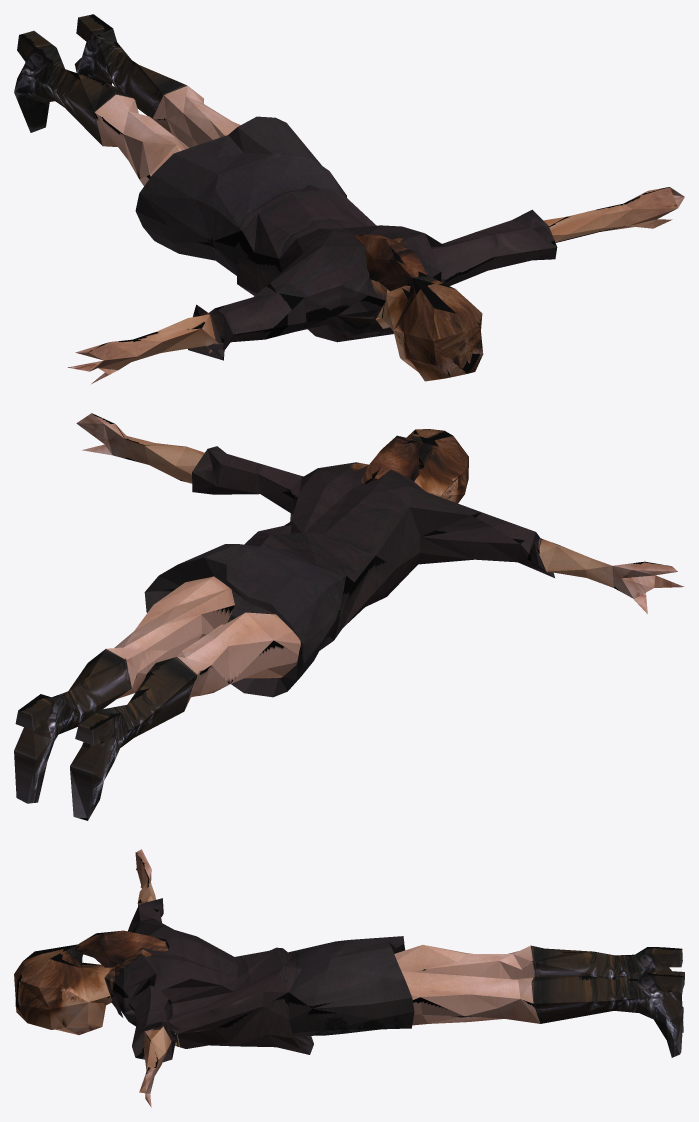
File: ponchocorpgirllow_wtf.obj
3 renders of one model, top to bottom at view 1: azimuth 30°, elevation 25°; view 2: azimuth 150°, elevation 25°; view 3: azimuth 270°, elevation 25°, orthographic. The views are drawn at different scales.
Visible parts, largest first — view 1: group1; view 2: group1; view 3: group1.
Boxes of the visible parts, bbox=[...] form: group1: bbox=[14, 14, 684, 383]; group1: bbox=[14, 413, 683, 820]; group1: bbox=[14, 849, 684, 1107].
Bounding box in the file's own units: 581 × 123 × 660.
